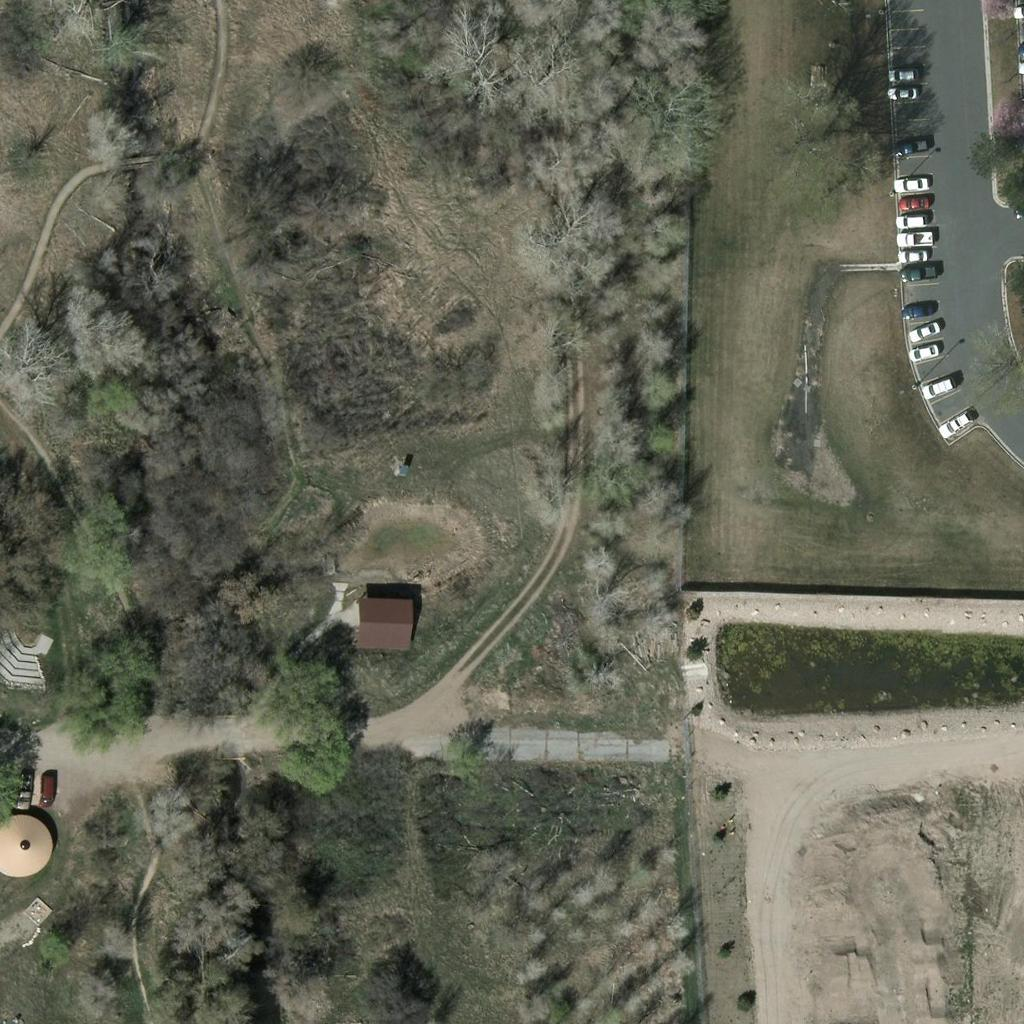car: (884, 56, 918, 90), (885, 76, 919, 110), (890, 129, 924, 163), (893, 167, 927, 201), (897, 185, 931, 219), (894, 203, 928, 237), (891, 222, 925, 256), (893, 237, 927, 271), (897, 257, 931, 291), (898, 291, 932, 325), (905, 313, 939, 347), (906, 334, 940, 368), (922, 370, 956, 404), (938, 406, 972, 440), (7, 775, 41, 809), (32, 775, 66, 809)
